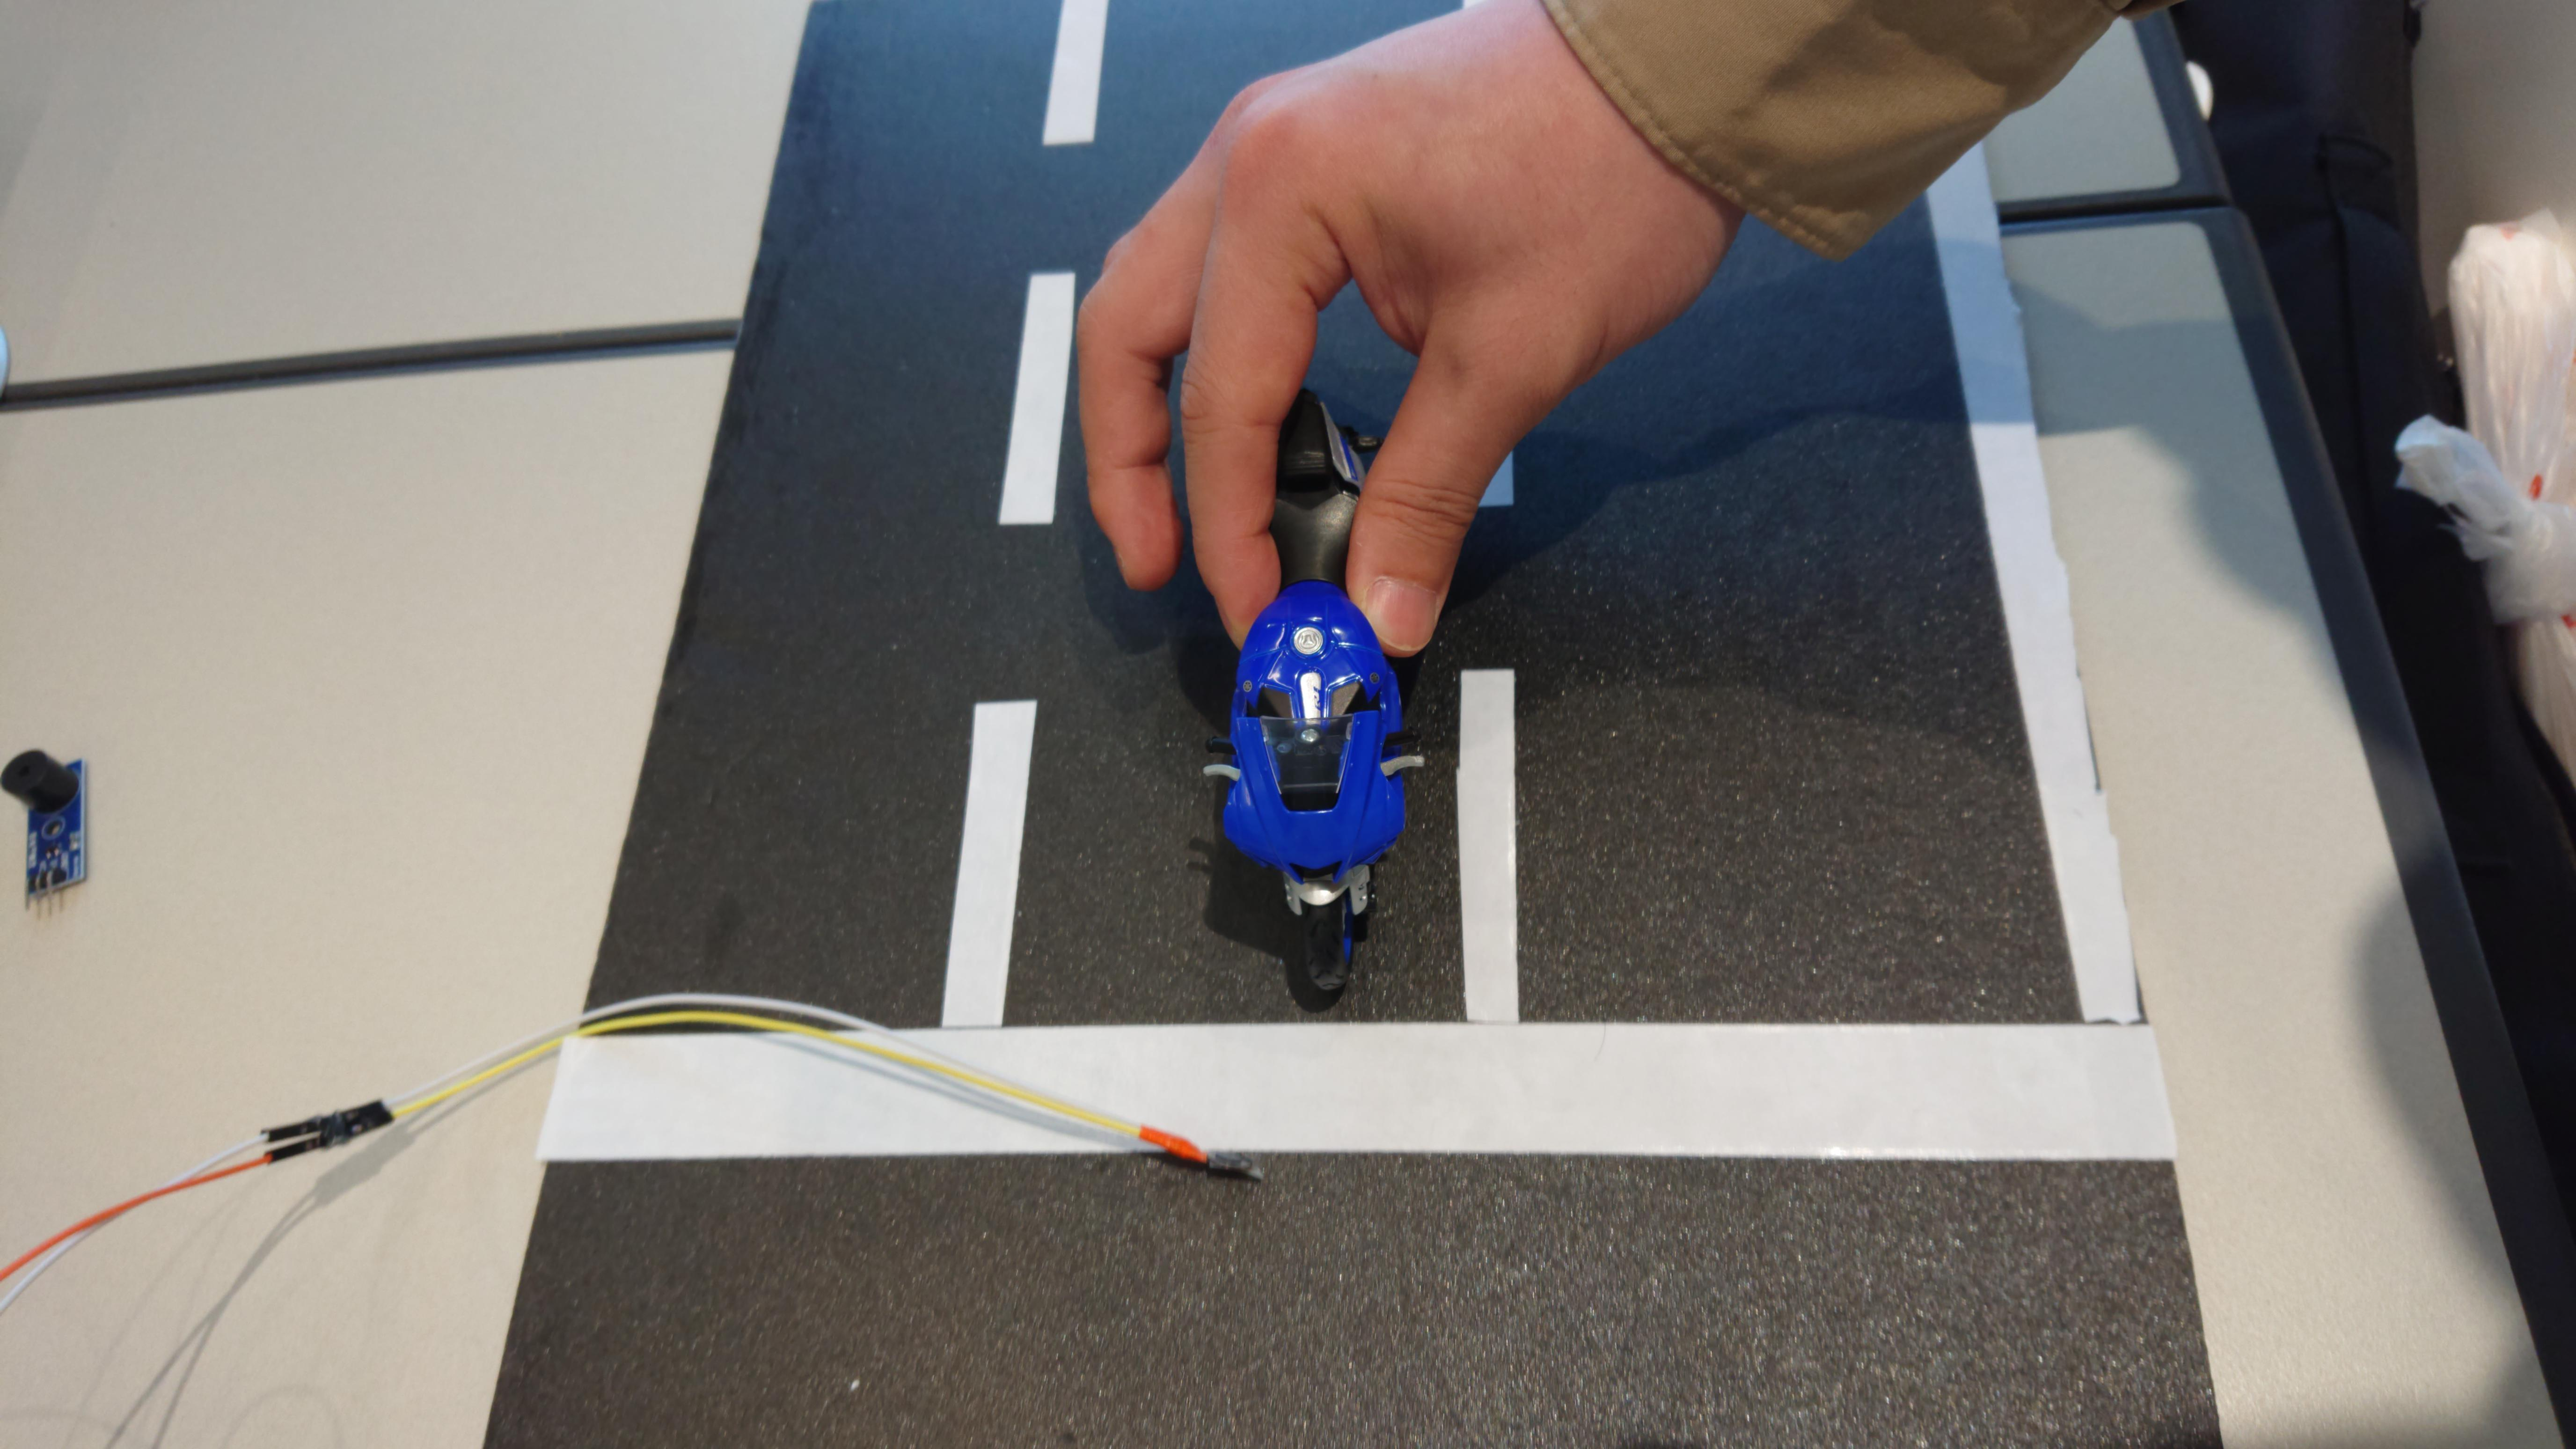Motorcycle: (1166, 320, 1449, 1001)
